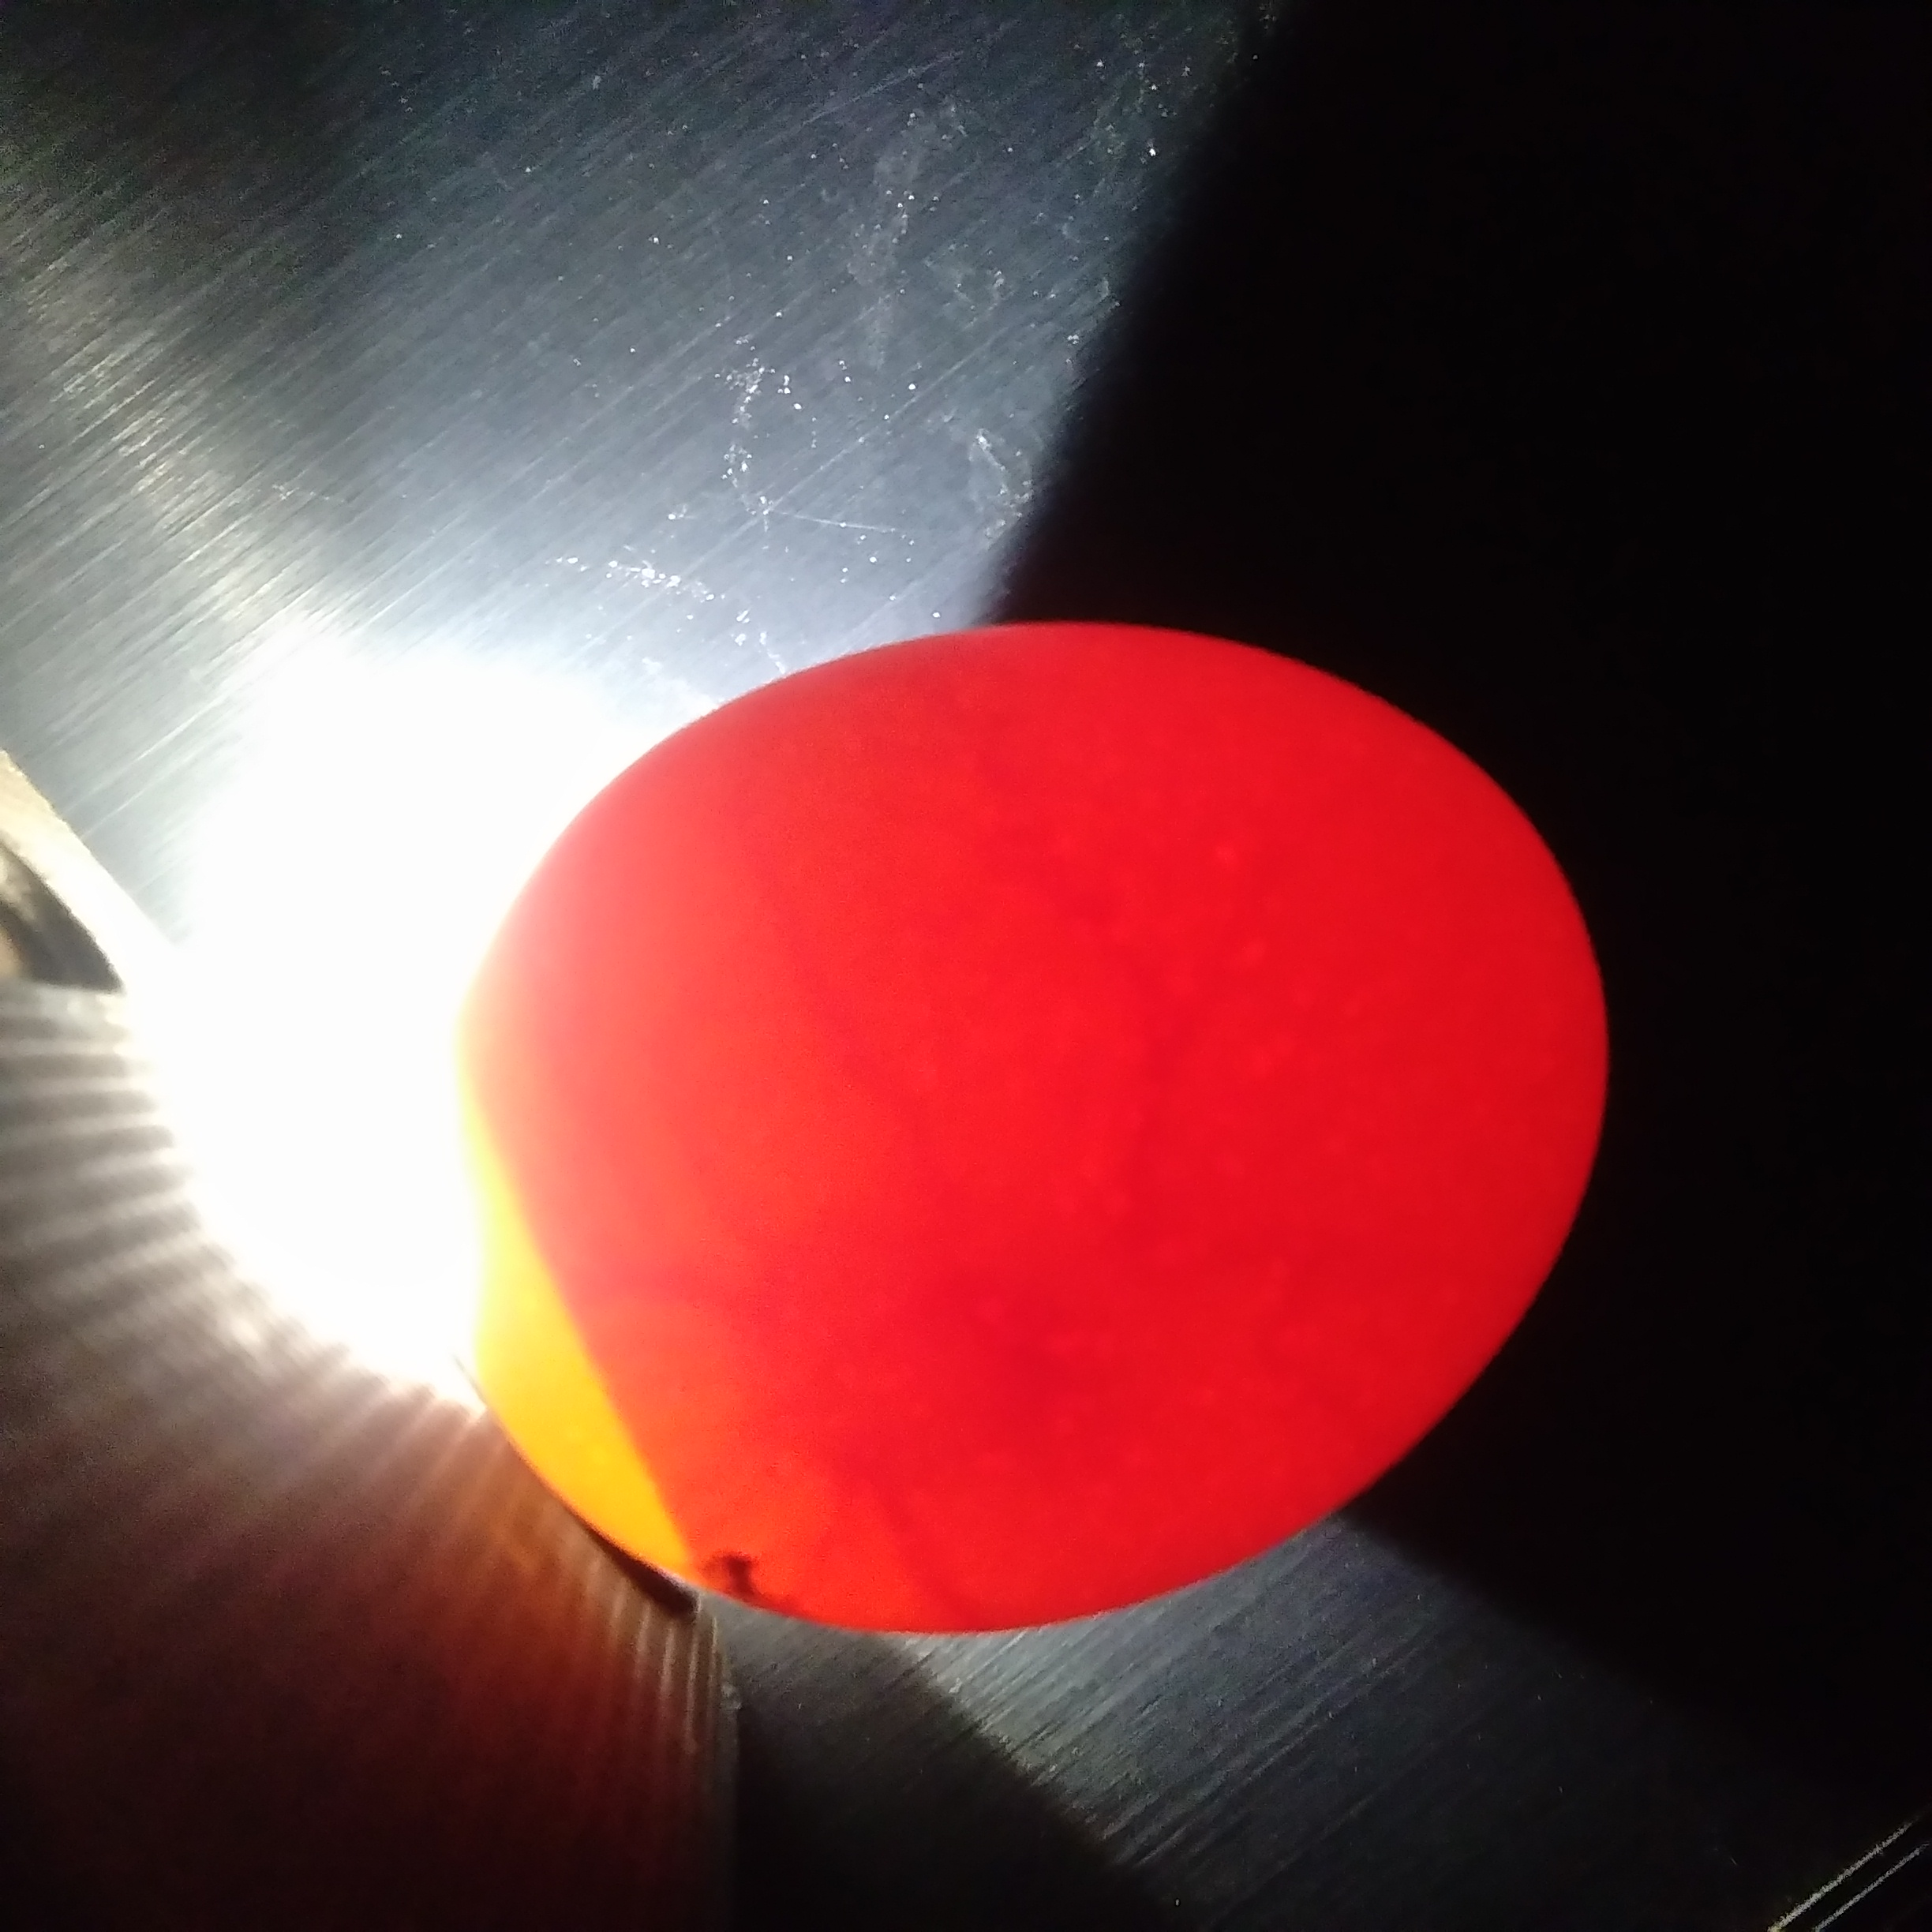bloodcell: (632, 1108, 883, 1490), (920, 939, 1247, 1184)
embryo: (902, 1254, 1090, 1440)
